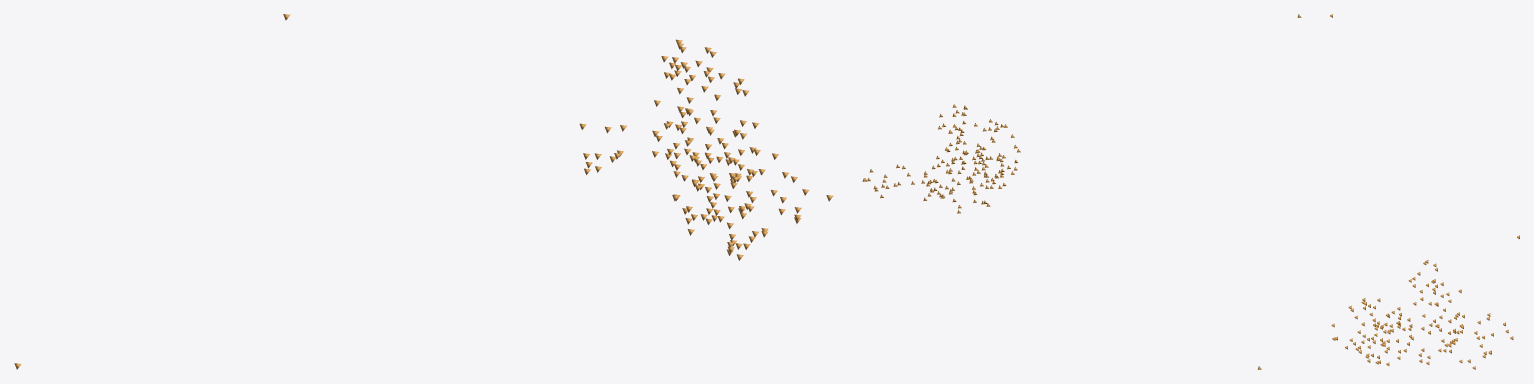
Rendered from guardian_structures.glb.
The picture shows the model from 3 angles, left to right: view 1: azimuth 30°, elevation 25°; view 2: azimuth 150°, elevation 25°; view 3: azimuth 270°, elevation 25°; orthographic projection. The views are drawn at different scales.
Visible parts, largest first — view 1: Renderer Node; view 2: Renderer Node; view 3: Renderer Node.
Boxes of the visible parts, x1,y1,x2,y2 form: Renderer Node: (14, 14, 833, 369); Renderer Node: (862, 14, 1301, 369); Renderer Node: (1330, 14, 1519, 369).
Size of the model in its own units: 1214 by 748 by 512.
